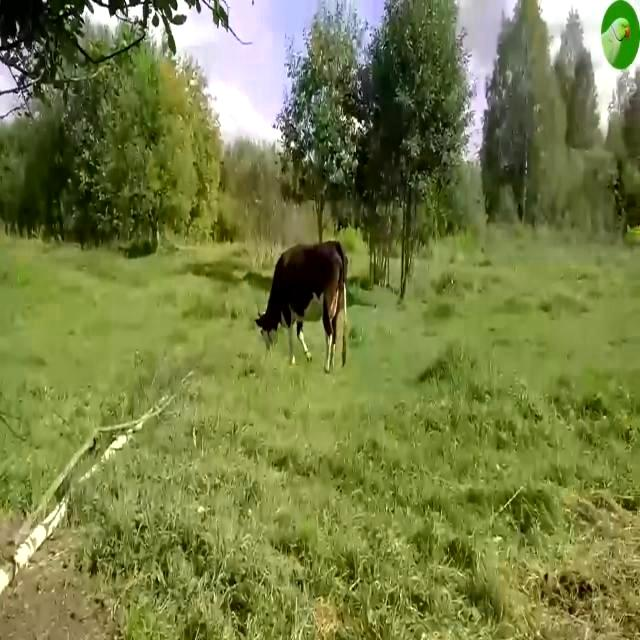COW: (256, 241, 348, 372)
